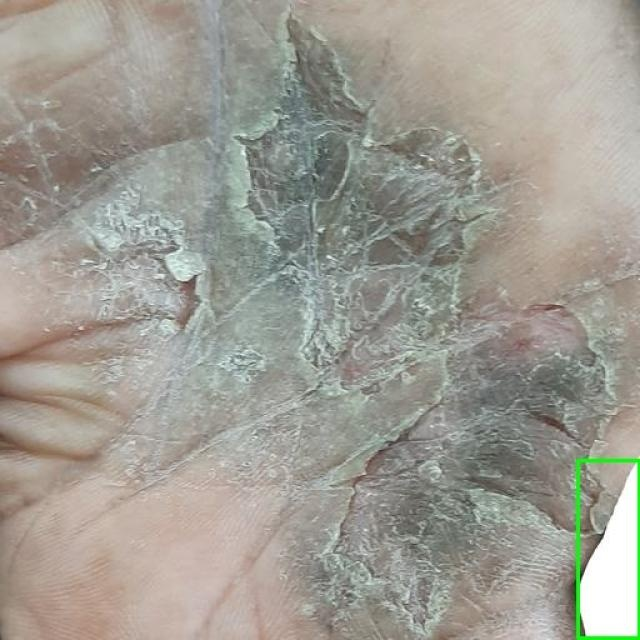Contact Dermatitis: (578, 461, 639, 639)
